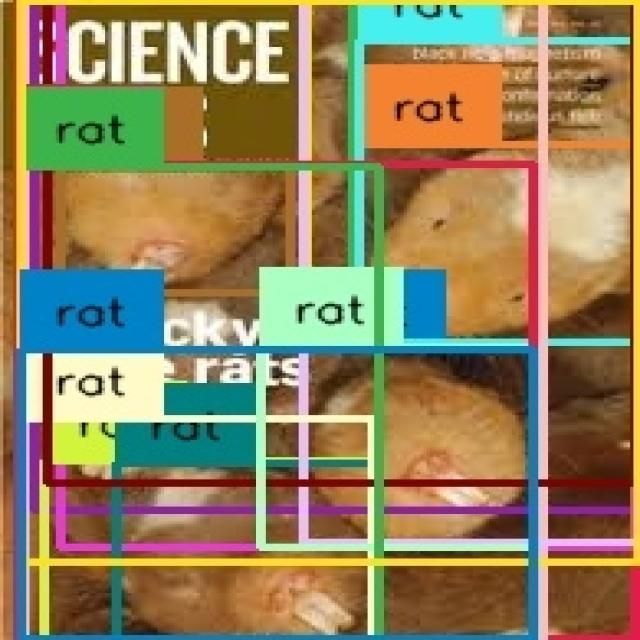rat: (18, 0, 635, 640), (23, 0, 636, 563), (25, 0, 543, 640), (61, 1, 635, 548), (33, 3, 637, 509), (48, 1, 635, 483), (19, 165, 531, 640), (304, 1, 638, 542), (20, 168, 377, 640), (23, 348, 532, 640), (306, 0, 638, 343), (353, 2, 638, 344), (360, 41, 638, 342), (19, 417, 374, 640), (43, 462, 374, 640), (360, 145, 638, 342), (259, 349, 532, 546), (116, 462, 372, 640), (305, 351, 532, 546), (59, 167, 289, 293)
